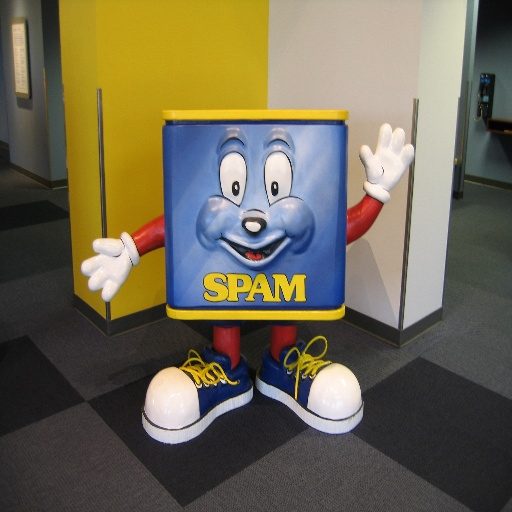hand: (355, 115, 415, 202), (78, 230, 141, 305)
